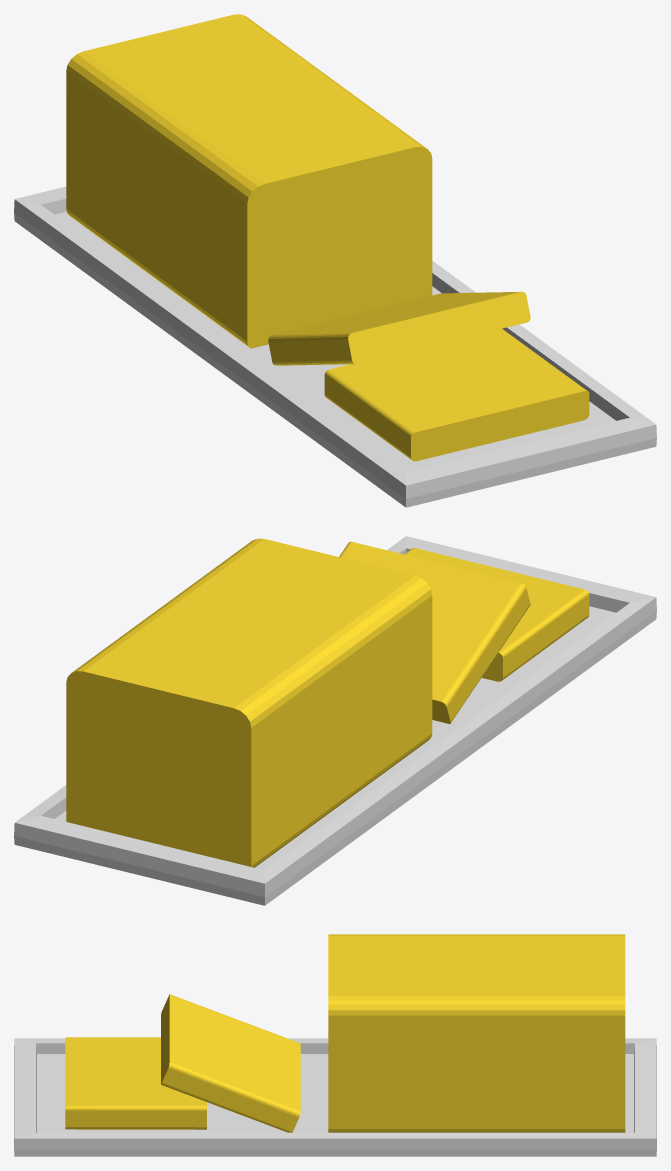
The model's file is LudumDareButter 1.fbx.
3 renders of one model, top to bottom at view 1: azimuth 30°, elevation 25°; view 2: azimuth 150°, elevation 25°; view 3: azimuth 270°, elevation 25°, orthographic. The views are drawn at different scales.
Visible parts, largest first — view 1: Butter, Butter.001; view 2: Butter, Butter.001; view 3: Butter, Butter.001.
Part boxes in pixels (x1,y1,x2,y2): Butter: (66, 14, 589, 461); Butter.001: (14, 186, 656, 507); Butter: (66, 538, 589, 867); Butter.001: (14, 536, 656, 905); Butter: (65, 934, 625, 1132); Butter.001: (14, 1038, 656, 1156).
Size of the model in its own units: 8.12 by 5.33 by 21.98.
